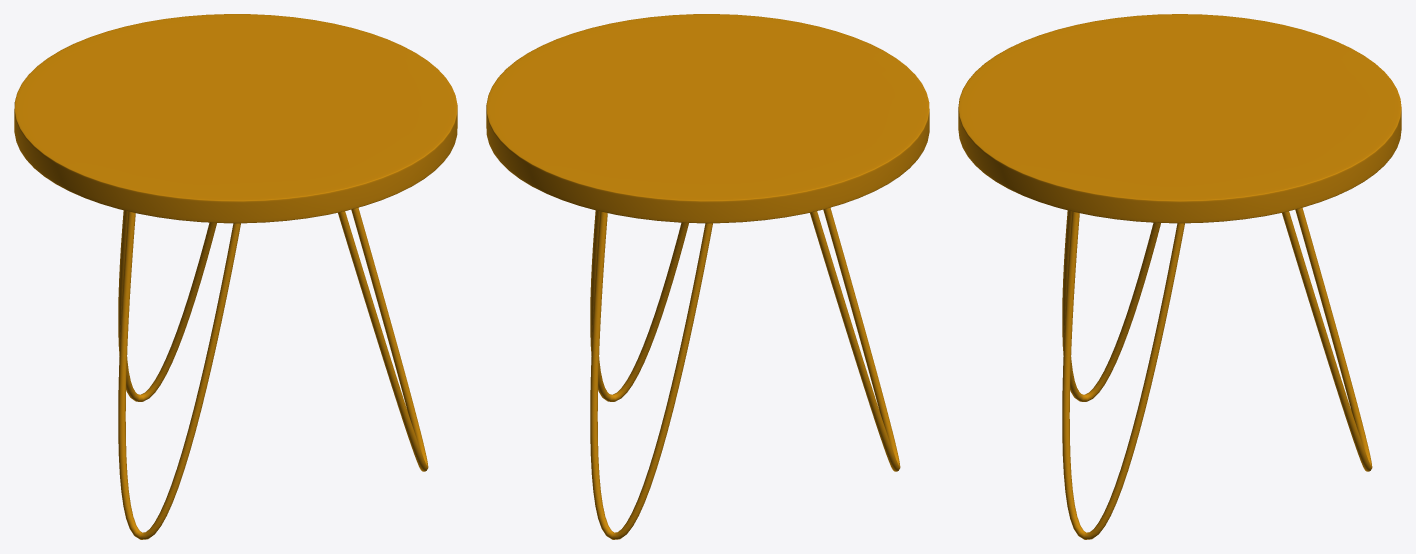
The model's file is ASSET.obj.
3 views of the same model, side by side, from view 1: azimuth 30°, elevation 25°; view 2: azimuth 150°, elevation 25°; view 3: azimuth 270°, elevation 25° (orthographic).
Visible parts, largest first — view 1: WTable_Cylinder; view 2: WTable_Cylinder; view 3: WTable_Cylinder.
Part boxes in pixels (<box>): WTable_Cylinder: <box>14,14,457,539</box>; WTable_Cylinder: <box>486,14,929,539</box>; WTable_Cylinder: <box>958,14,1401,539</box>.
Size of the model in its own units: 0.7795 by 0.7046 by 0.7795.
